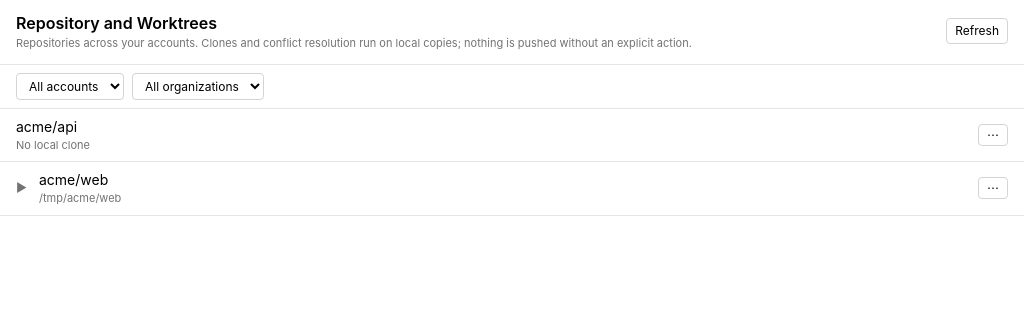
Repos › expands a tracked repo to lazy-load and list its worktrees
Click the button named "Worktrees for acme/web" at (22, 188), box [16,180,27,196]
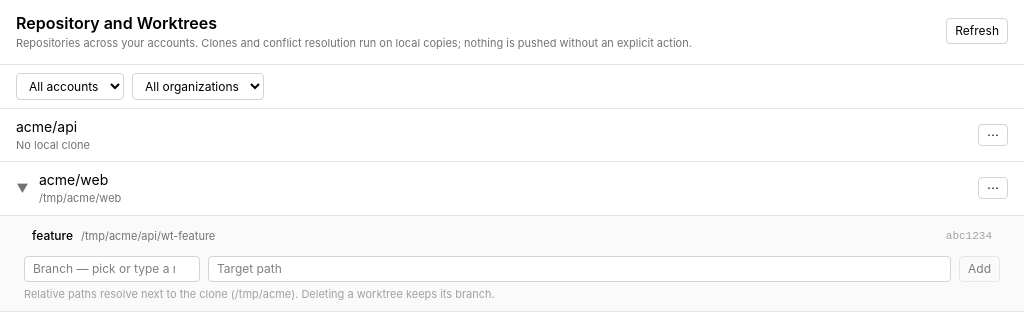
Result: the text "feature" is shown at [32,228,73,244]
Result: the text "/tmp/acme/api/wt-feature" is shown at [81,228,215,242]
